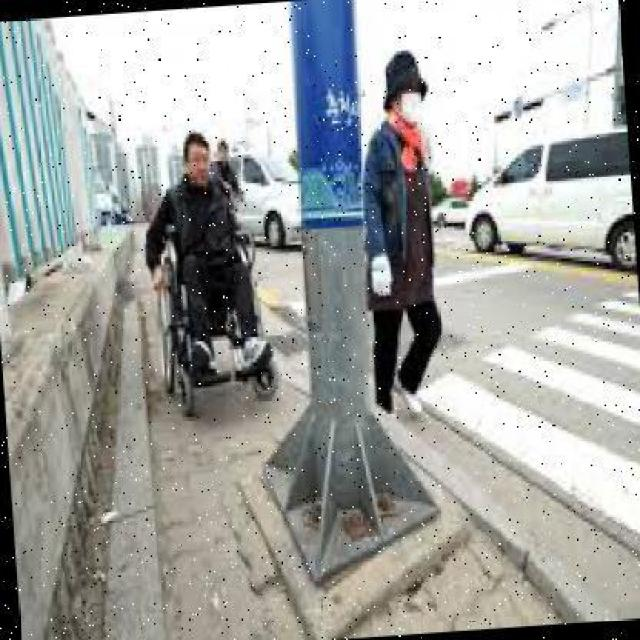Person: (142, 127, 278, 416), (351, 48, 454, 421)
